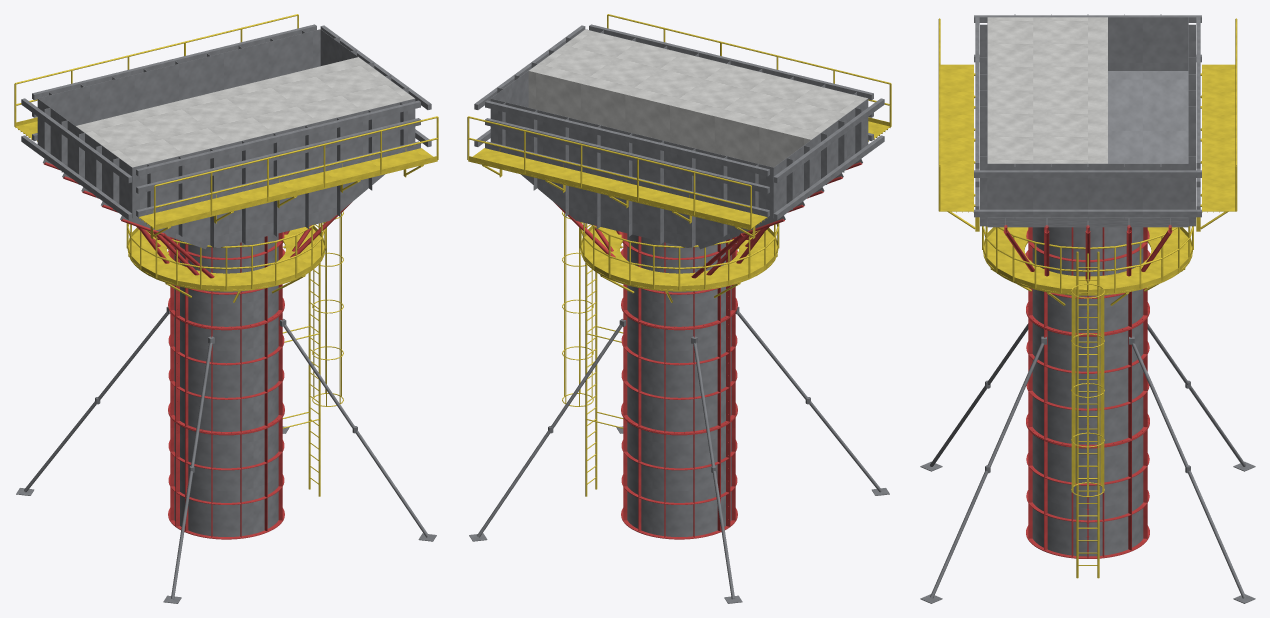
The model's file is pier-and-pier-cap-moulds.glb.
The picture shows the model from 3 angles, left to right: view 1: azimuth 30°, elevation 25°; view 2: azimuth 150°, elevation 25°; view 3: azimuth 270°, elevation 25°; orthographic projection. The views are drawn at different scales.
Visible parts, largest first — view 1: PierCapSideShutters, PierShutter, Pier&Cap(context), WorkingPlatforms, PierCapEndShutters, Stiffeners, Push-PullProps, AccessLadder, Flanges&Bolts, SoffitBrackets; view 2: Pier&Cap(context), PierShutter, PierCapSideShutters, WorkingPlatforms, PierCapEndShutters, Stiffeners, Push-PullProps, AccessLadder, Flanges&Bolts, SoffitBrackets; view 3: PierShutter, WorkingPlatforms, Pier&Cap(context), PierCapEndShutters, PierCapSoffitShutters, Stiffeners, AccessLadder, PierCapSideShutters, Push-PullProps, Flanges&Bolts, SoffitBrackets.
Part boxes in pixels (x1,y1,x2,y2): PierCapSideShutters: (32,24,420,247); PierShutter: (174,233,278,536); Pier&Cap(context): (76,57,414,167); WorkingPlatforms: (14,14,438,302); PierCapEndShutters: (21,25,431,219); Stiffeners: (168,232,284,537); Push-PullProps: (16,306,436,603); AccessLadder: (282,211,343,496); Flanges&Bolts: (168,239,284,539); SoffitBrackets: (43,162,351,278); Pier&Cap(context): (528,29,867,167); PierShutter: (627,233,731,536); PierCapSideShutters: (485,24,873,247); WorkingPlatforms: (467,14,891,302); PierCapEndShutters: (474,25,884,219); Stiffeners: (621,232,737,537); Push-PullProps: (469,306,889,603); AccessLadder: (562,211,623,496); Flanges&Bolts: (621,239,737,539); SoffitBrackets: (554,162,862,278); PierShutter: (1032,227,1143,556); WorkingPlatforms: (938,18,1237,305); Pier&Cap(context): (987,17,1107,163); PierCapEndShutters: (974,14,1201,220); PierCapSoffitShutters: (987,71,1188,235); Stiffeners: (1026,227,1149,556); AccessLadder: (1071,251,1104,578); PierCapSideShutters: (975,16,1200,226); Push-PullProps: (920,323,1255,603); Flanges&Bolts: (1026,295,1149,558); SoffitBrackets: (1003,225,1172,281).
Size of the model in its own units: 8.14 by 10.72 by 7.35.
Materials: 5 (5 with a texture image).
